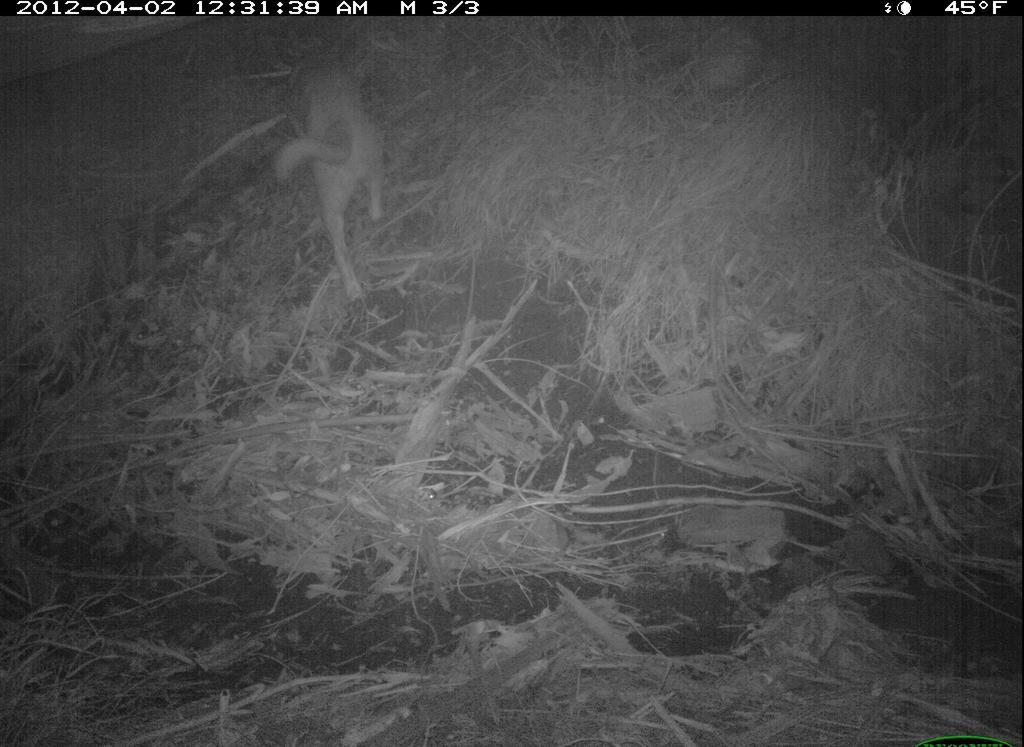dog: (258, 15, 440, 308)
